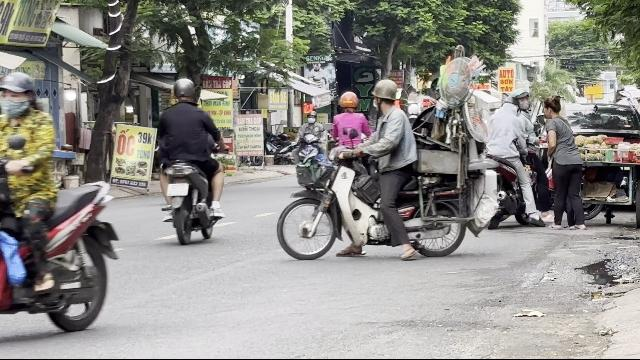helmet: (0, 71, 36, 116), (372, 78, 400, 110), (171, 78, 197, 104), (499, 93, 521, 117), (338, 90, 358, 112)
licenseplate: (167, 184, 189, 196)
motorcyclist: (0, 67, 121, 349), (273, 80, 429, 262), (154, 76, 226, 244), (477, 84, 537, 229)
